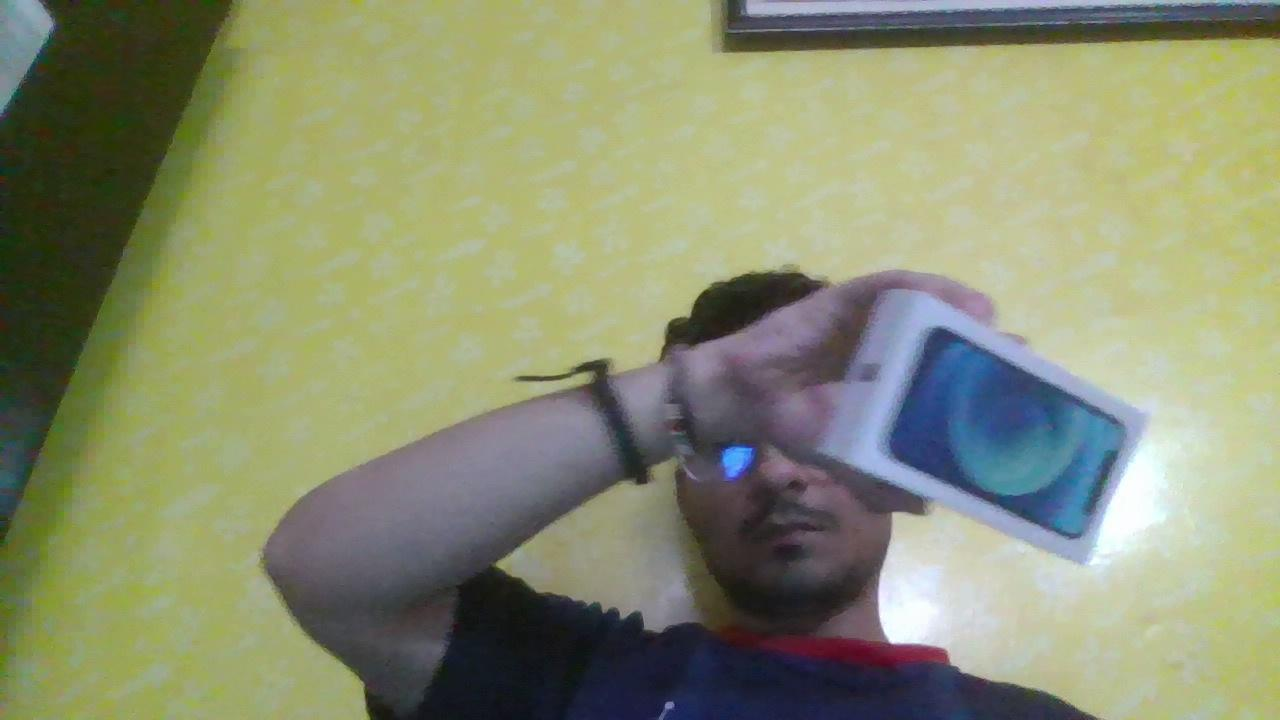Phone: (797, 290, 1159, 582)
